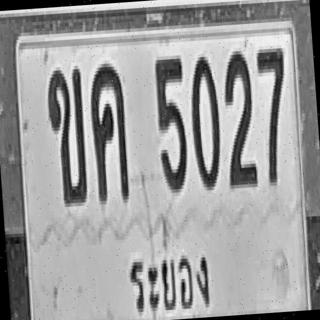A02: (44, 65, 89, 204)
A04: (88, 61, 130, 203)
N00: (186, 53, 224, 191)
N02: (221, 48, 258, 187)
N05: (154, 55, 190, 193)
N07: (256, 44, 292, 186)
P53: (119, 240, 218, 320)
